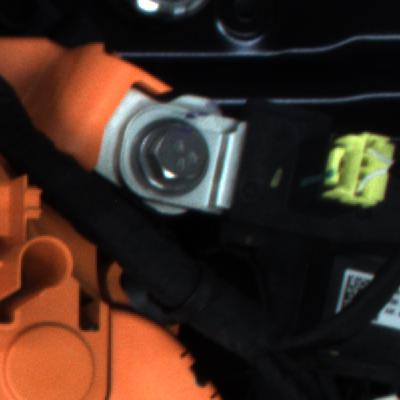nut_b: (119, 113, 214, 205)
